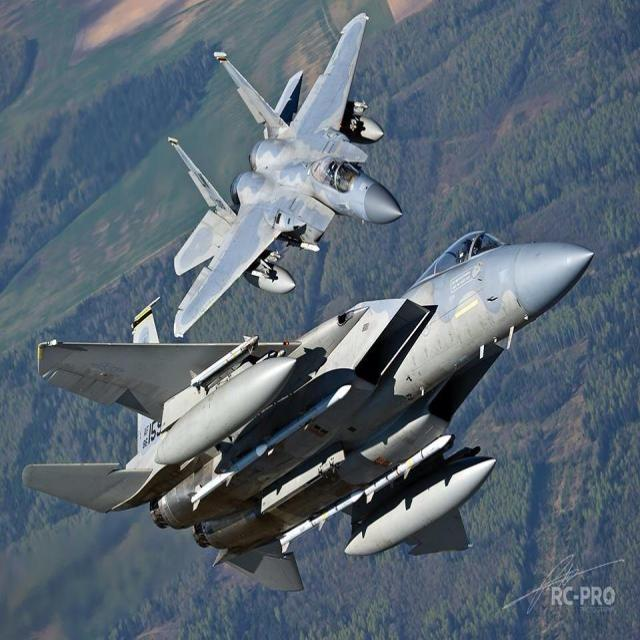MIL_Plane: (19, 229, 596, 596), (172, 13, 403, 342)
